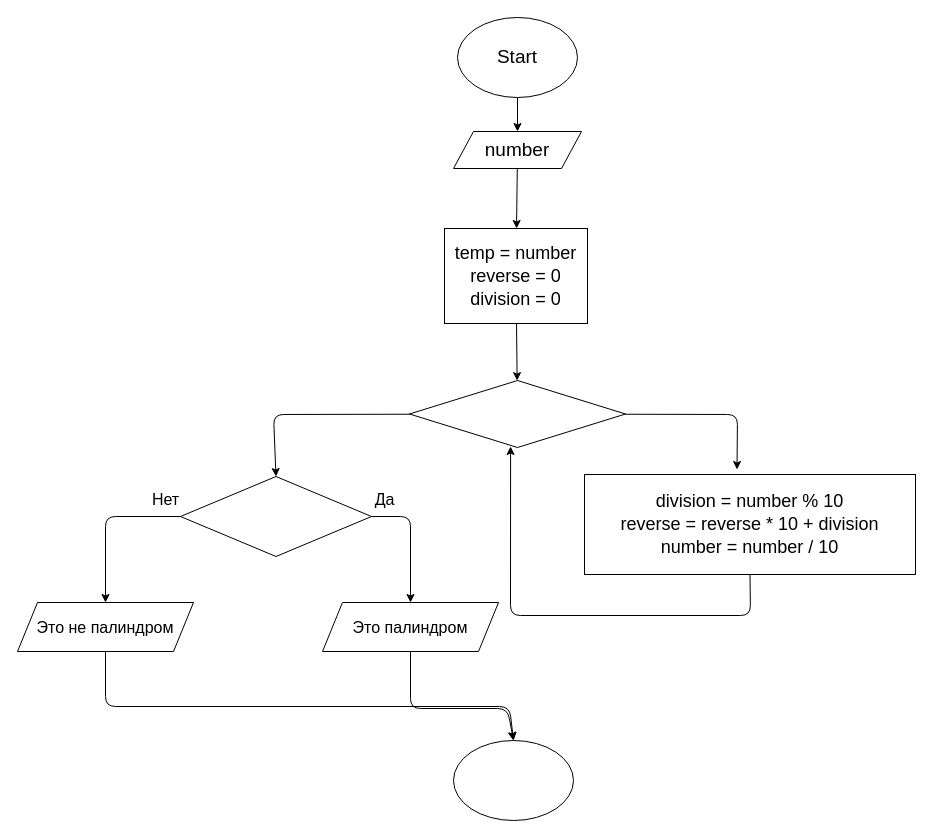
This 933x838 diagram has some shape labels left out. The box of each missing label's shape, as (x1, y1, x2, y2) in pixels:
End: (452, 740, 574, 820)
if temp = reverse: (180, 476, 372, 556)
number > 0: (408, 380, 626, 448)
